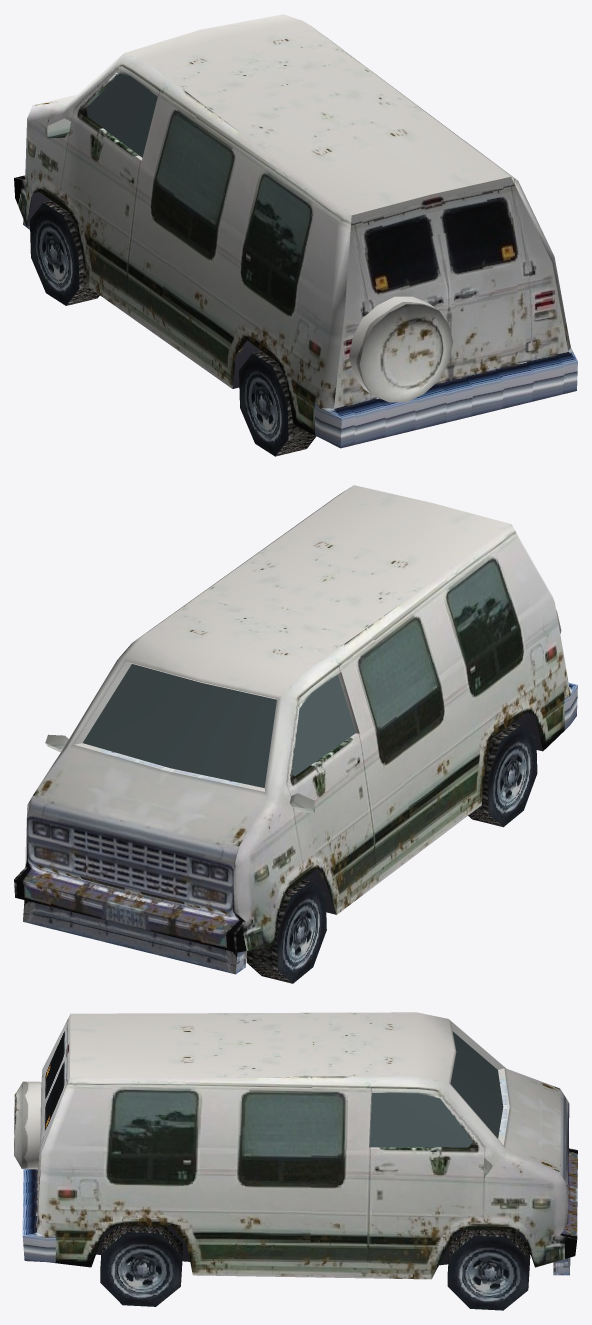
File: p54_02_van_conversion_white.glb
The picture shows the model from 3 angles, top to bottom: view 1: azimuth 30°, elevation 25°; view 2: azimuth 150°, elevation 25°; view 3: azimuth 270°, elevation 25°; orthographic projection. The views are drawn at different scales.
Parts seen in each view (by area): view 1: Body, Glass; view 2: Body, Glass; view 3: Body, Glass.
Boxes of the visible parts, x1,y1,x2,y2 form: Body: (14,14,577,456); Glass: (86,73,157,157); Body: (14,485,577,983); Glass: (83,664,355,787); Body: (14,1012,577,1310); Glass: (369,1031,503,1147).
Bounding box in the file's own units: 2.23 × 2.08 × 4.9.
2 materials, 2 textured.
